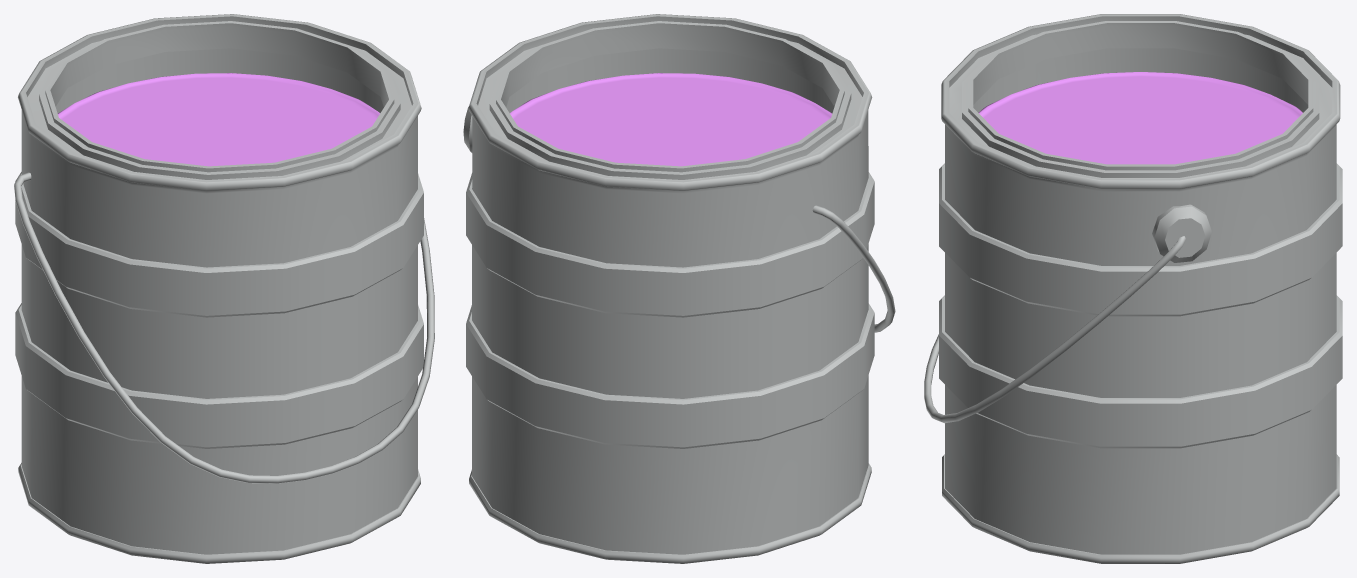
The model's file is paint_bucket.fbx.
3 renders of one model, left to right at view 1: azimuth 30°, elevation 25°; view 2: azimuth 150°, elevation 25°; view 3: azimuth 270°, elevation 25°, orthographic.
Visible parts, largest first — view 1: Paint; view 2: Paint; view 3: Paint.
Boxes of the visible parts, x1,y1,x2,y2 form: Paint: [14, 14, 434, 563]; Paint: [463, 14, 895, 563]; Paint: [924, 14, 1342, 563].
Bounding box in the file's own units: 0.3026 × 0.2948 × 0.2885.
Materials: 2 (1 with a texture image).
